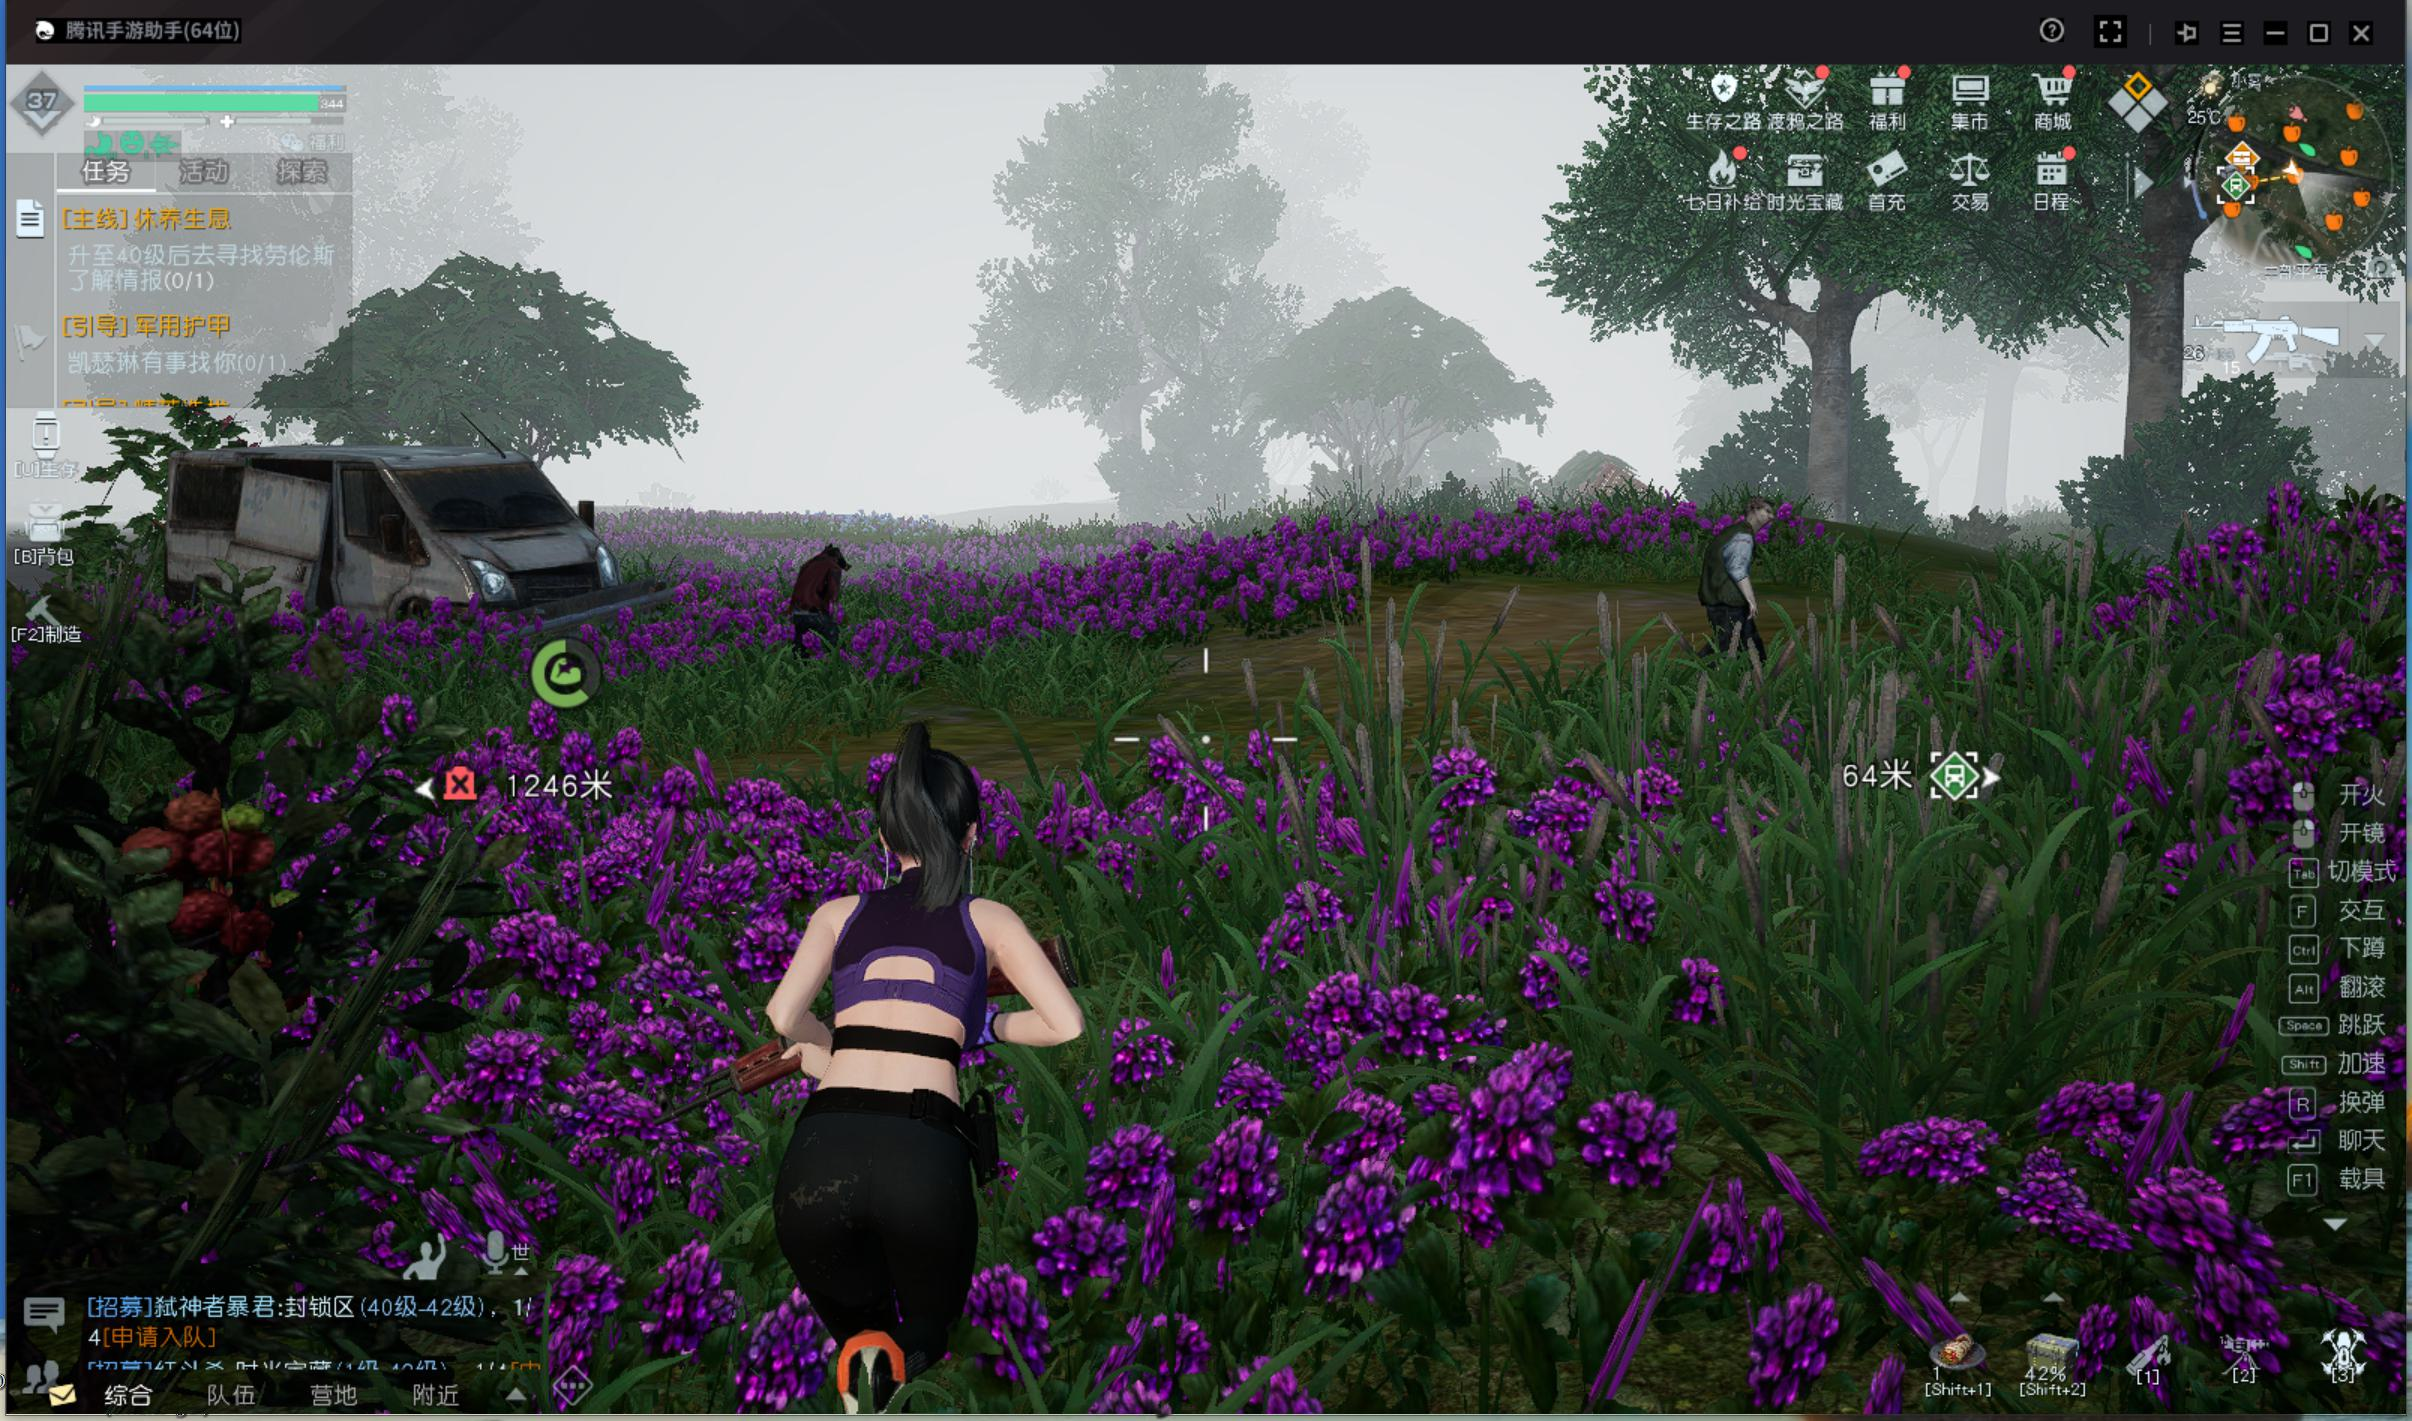tree: (2118, 306, 2190, 567), (1801, 348, 1861, 528)
